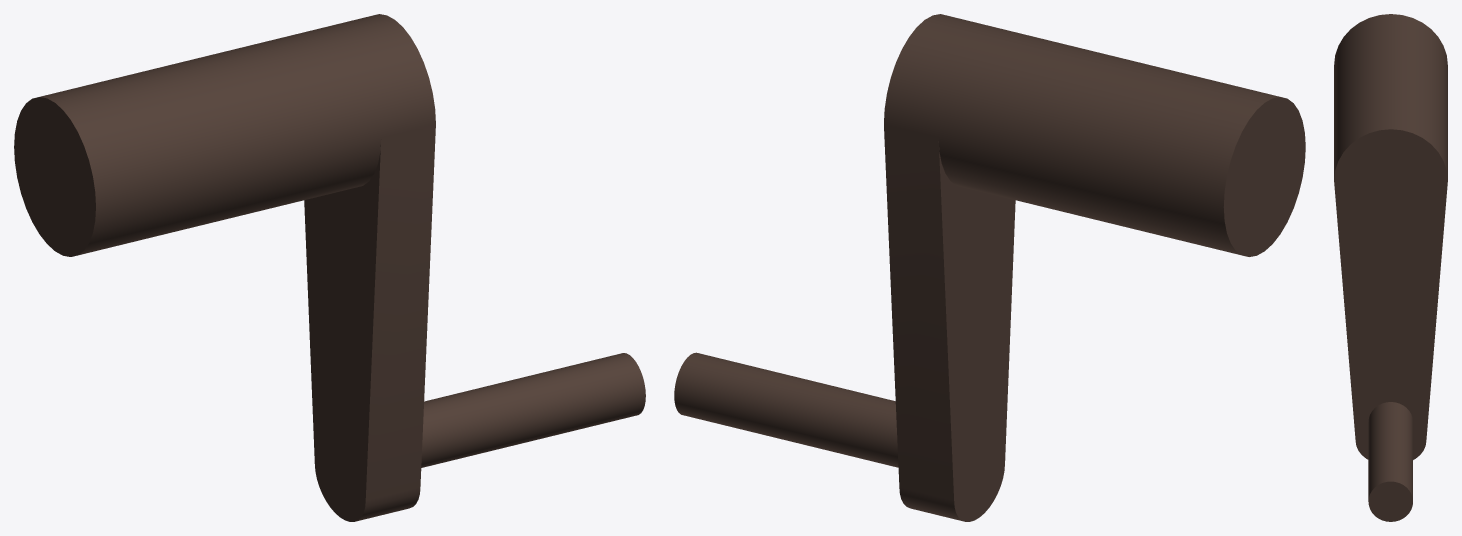
File: lever.fbx
3 views of the same model, side by side, from view 1: azimuth 30°, elevation 25°; view 2: azimuth 150°, elevation 25°; view 3: azimuth 270°, elevation 25° (orthographic). The views are drawn at different scales.
Parts seen in each view (by area): view 1: Lever; view 2: Lever; view 3: Lever.
Boxes of the visible parts, bbox=[...] form: Lever: bbox=[14, 14, 645, 521]; Lever: bbox=[674, 14, 1305, 521]; Lever: bbox=[1334, 14, 1447, 521].
Size of the model in its own units: 147 by 118 by 36.26.
